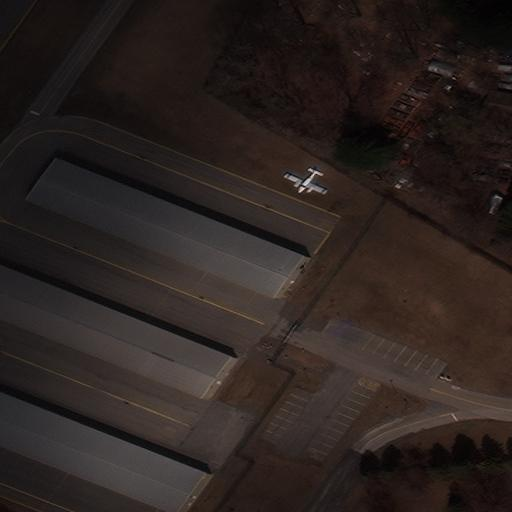Small Civil Transport: (283, 169, 327, 193)
